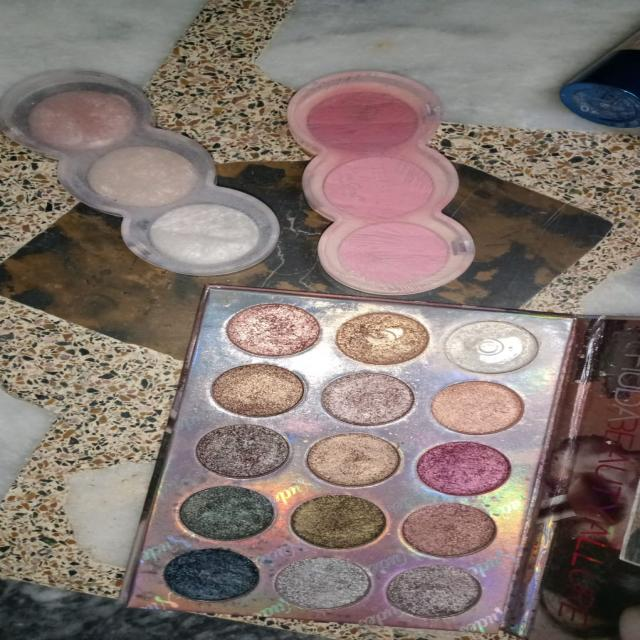eye shade: (8, 61, 490, 299), (307, 359, 423, 434), (261, 545, 380, 614), (378, 549, 484, 626), (212, 295, 331, 363), (165, 483, 290, 547), (186, 415, 295, 485), (400, 495, 511, 563), (443, 309, 546, 378), (158, 547, 276, 606), (421, 379, 530, 441), (293, 485, 385, 555), (336, 305, 435, 370), (421, 433, 511, 503), (300, 431, 404, 491), (204, 359, 312, 415)
